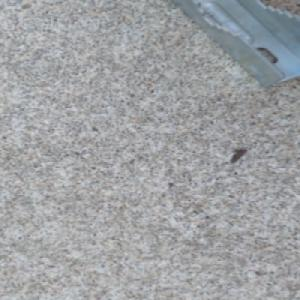ClampPart: (167, 0, 300, 89)
